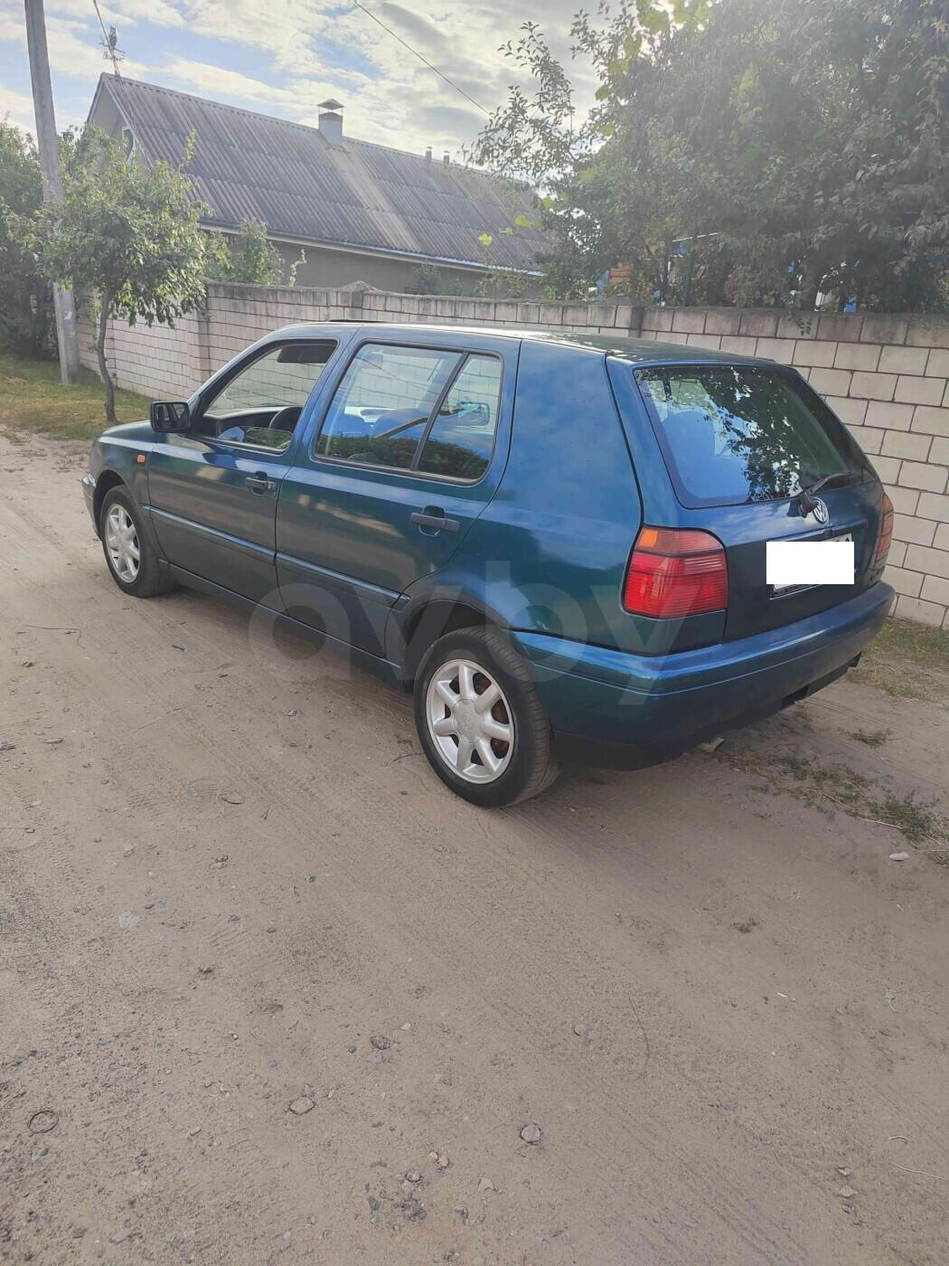Golf_1991-2000: (90, 306, 892, 815)
